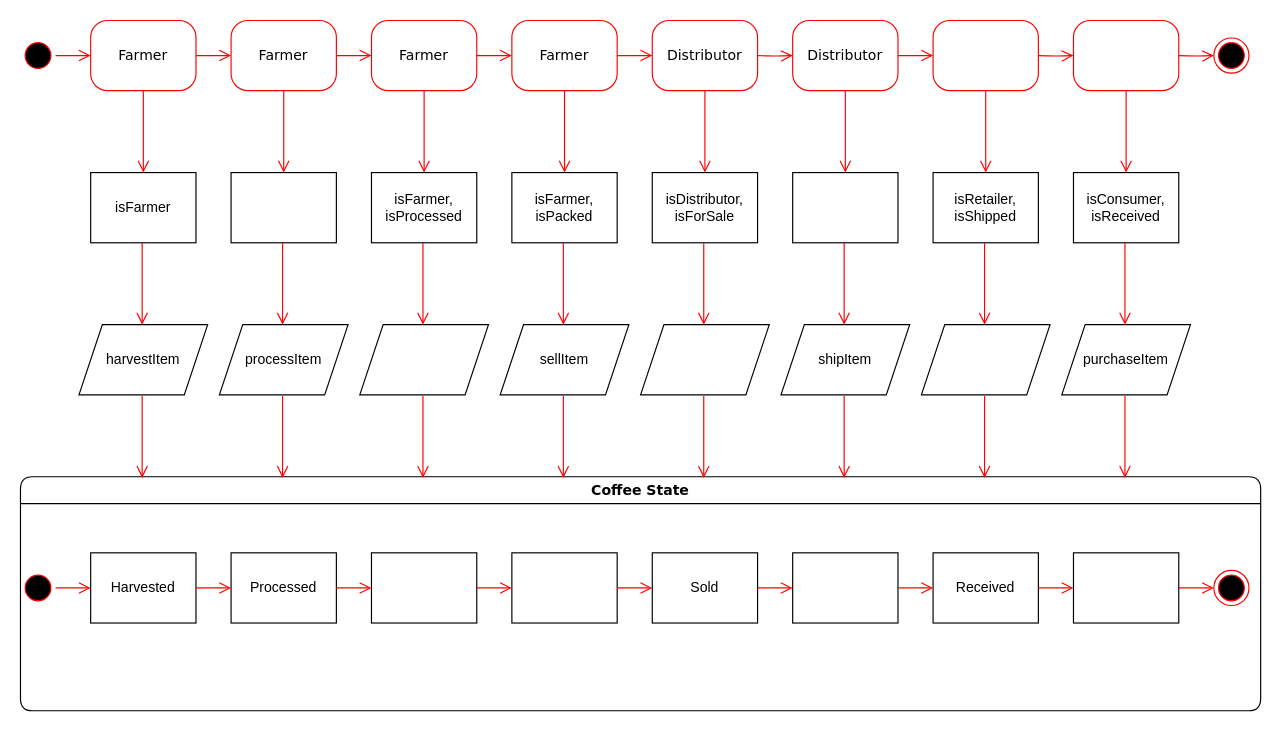
This 1281x731 diagram has some shape labels left out. The shapes that lost their labels are listed below. From the top down, each one's centre as x and y in pixels, then its label:
(985,55): Retailer
(1125,55): Consumer
(283,207): isFarmer, isHarvested
(845,207): isDistributor, isSold
(423,359): packItem
(704,359): buyItem
(985,359): receiveItem
(423,587): Packed
(564,587): ForSale
(845,587): Shipped
(1125,587): Purchased
